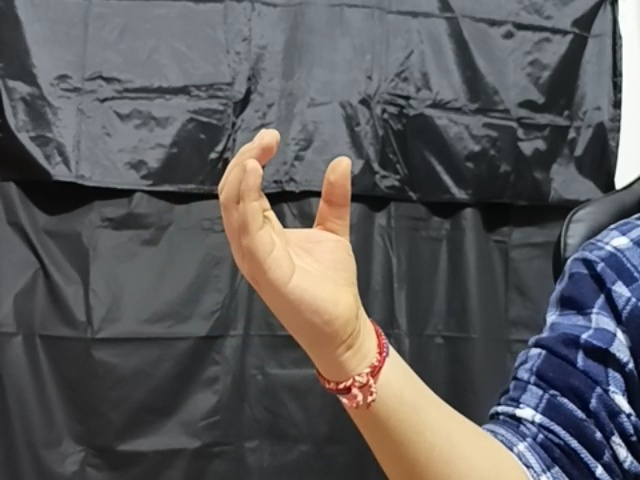C: (216, 129, 386, 343)
